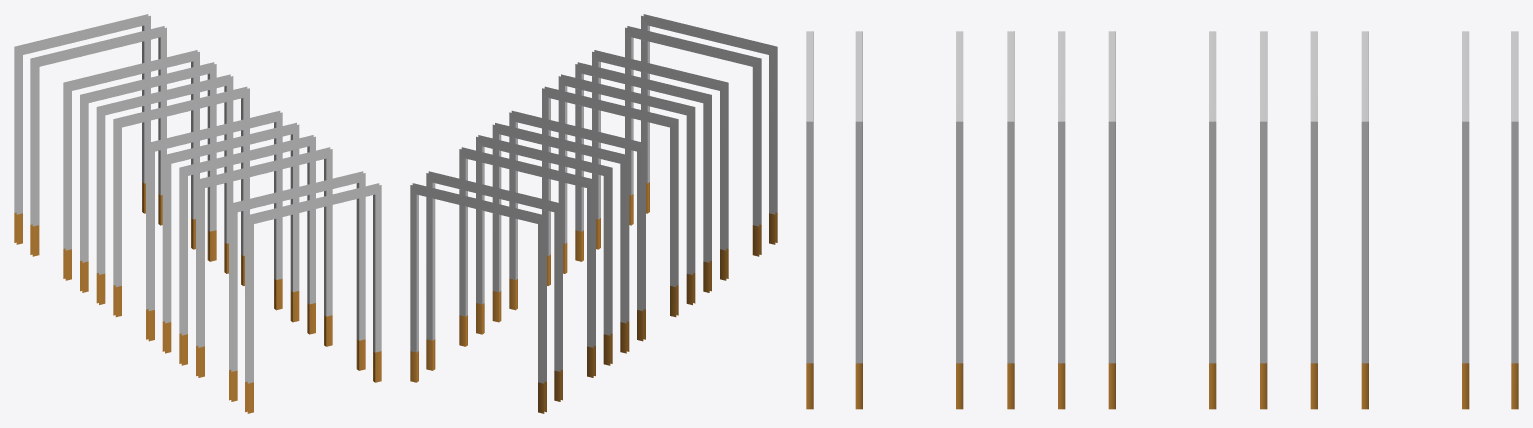
File: SM_H_Building_Tide_DeepJail_04_pillar_03_ATLAS.fbx
3 views of the same model, side by side, from view 1: azimuth 30°, elevation 25°; view 2: azimuth 150°, elevation 25°; view 3: azimuth 270°, elevation 25° (orthographic). The views are drawn at different scales.
Parts seen in each view (by area): view 1: SM_H_Building_Tide_DeepJail_04_pillar_03_ATLAS; view 2: SM_H_Building_Tide_DeepJail_04_pillar_03_ATLAS; view 3: SM_H_Building_Tide_DeepJail_04_pillar_03_ATLAS.
Boxes of the visible parts, x1=… form: SM_H_Building_Tide_DeepJail_04_pillar_03_ATLAS: x1=14, y1=14, x2=381, y2=413; SM_H_Building_Tide_DeepJail_04_pillar_03_ATLAS: x1=410, y1=14, x2=777, y2=413; SM_H_Building_Tide_DeepJail_04_pillar_03_ATLAS: x1=806, y1=31, x2=1518, y2=409.
Bounding box in the file's own units: 2958 × 8904 × 4136.
